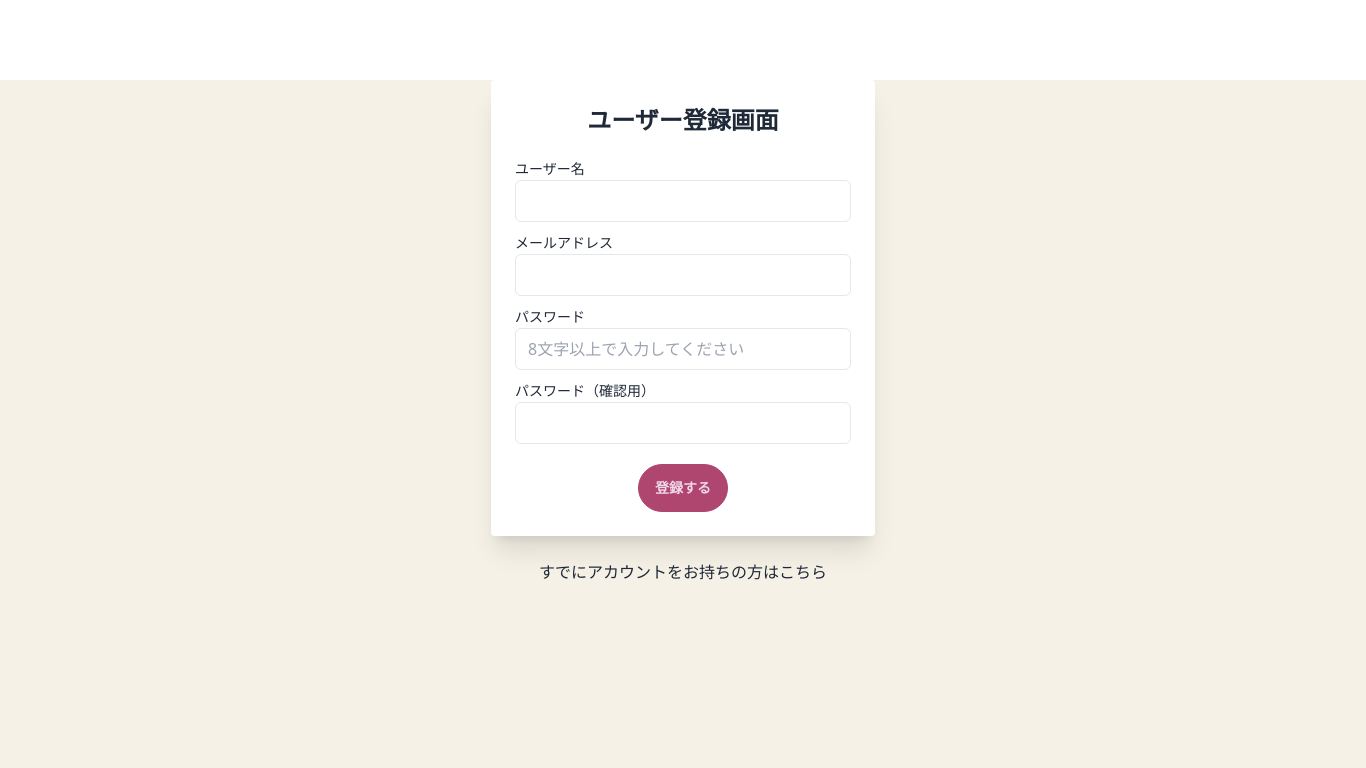
it: Registerコンポーネントのテスト › エラー時のテスト › バリデーションエラー時のテスト › パスワードのバリデーションエラー › パスワードが8文字未満の場合
The image size is (1366, 768).
Type "short" into the password field labelled "パスワード" at (683, 349), box [515,328,851,370]
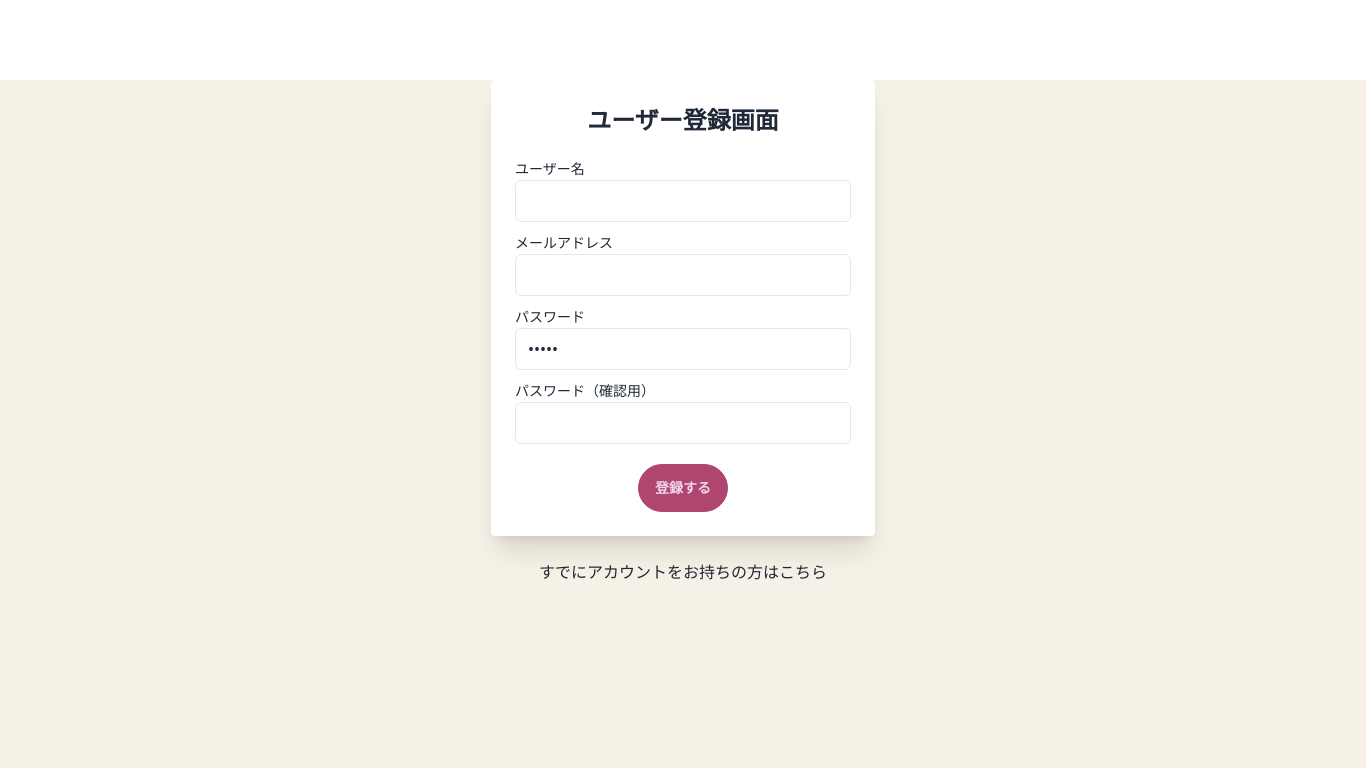
Click the button "登録する" at (683, 488), box [638,464,728,512]
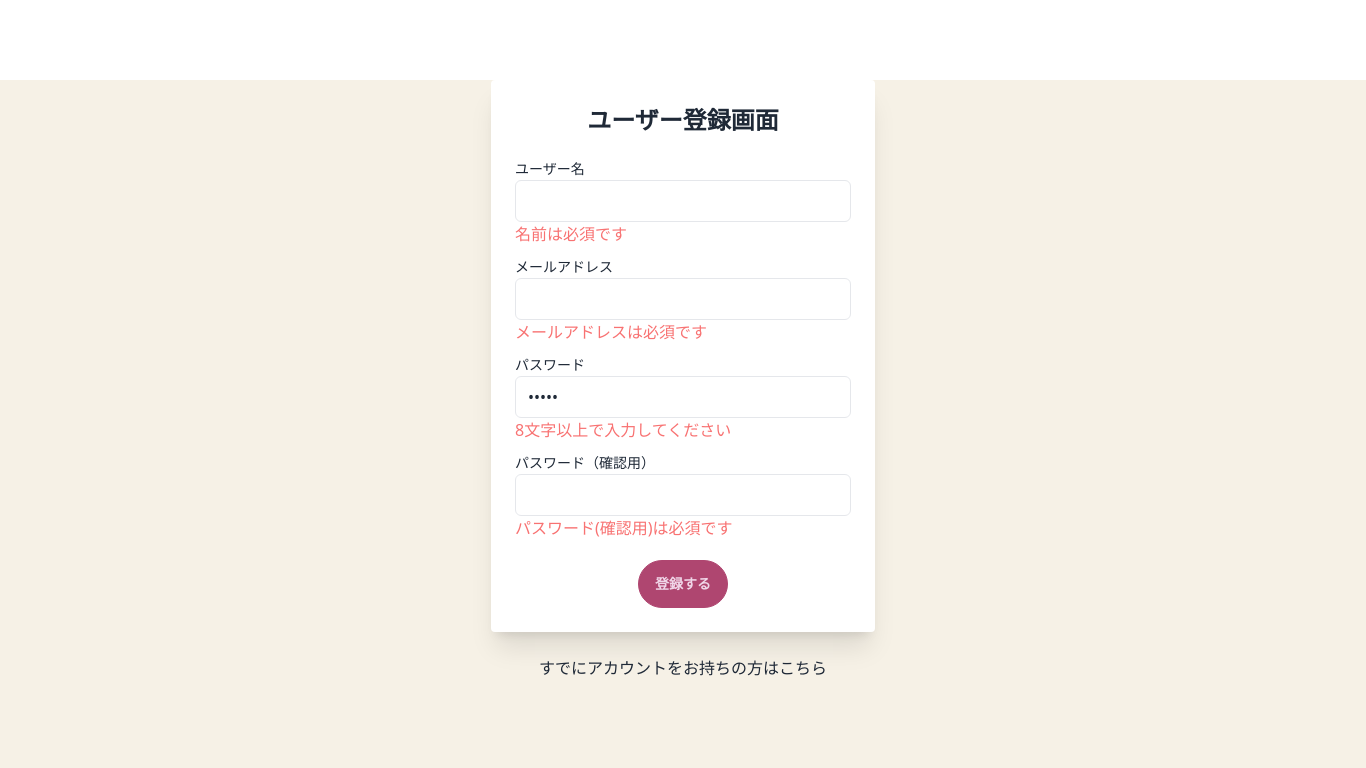
Now the text "8文字以上で入力してください" is shown, box [515,419,731,441]
